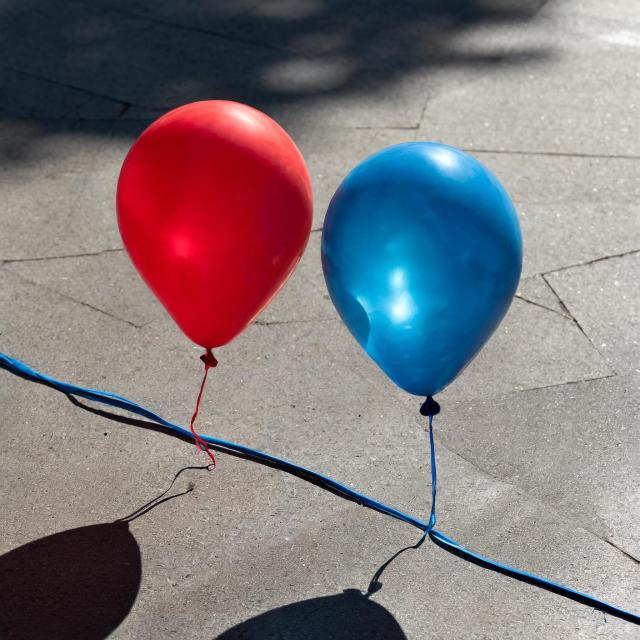blue: (326, 141, 524, 417)
red: (119, 101, 313, 371)
